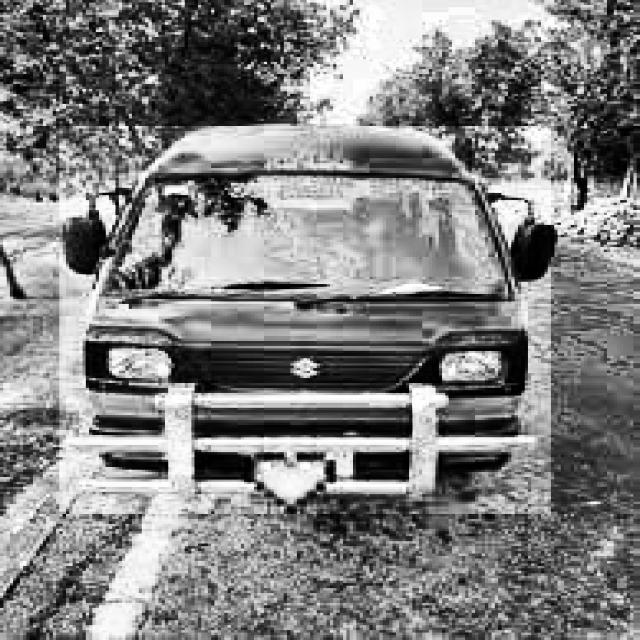LCV: (59, 126, 554, 516)
